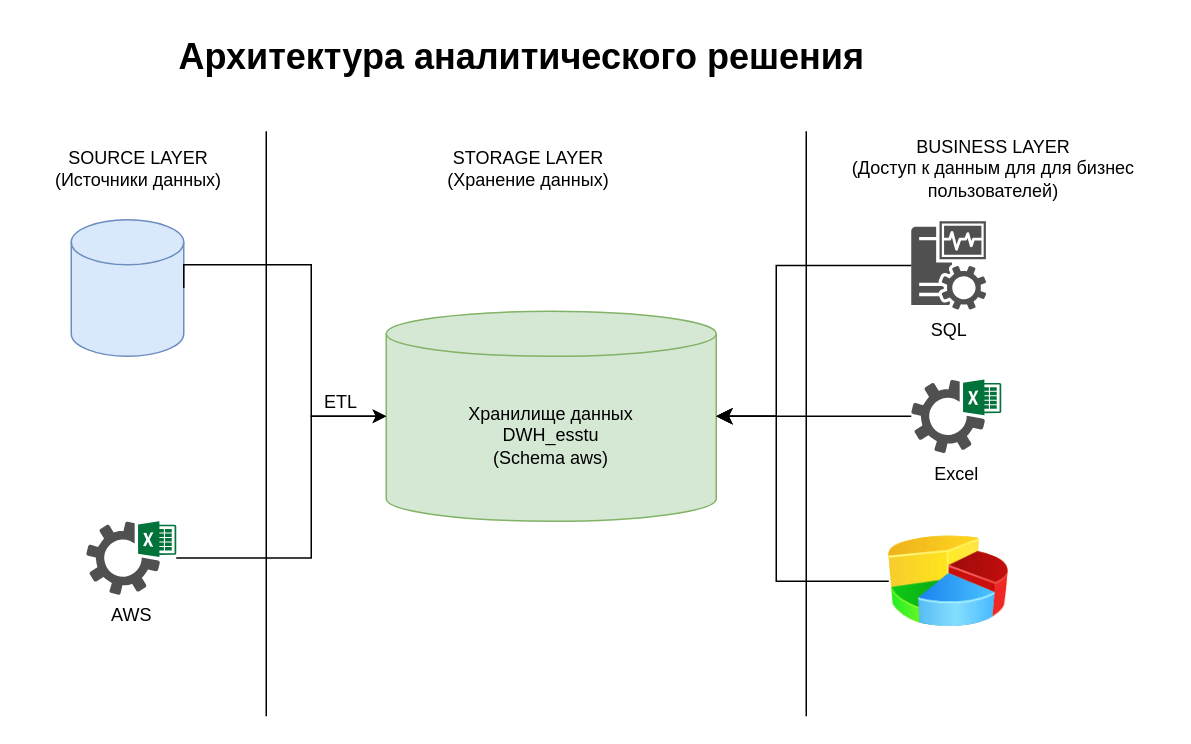
Some shapes in this 1191 by 744 pixel diagram are drawn without their labels. Each missing label, with the centre of its shape:
"BI Metabase" belongs at (948,580).
"staff" belongs at (127,287).
